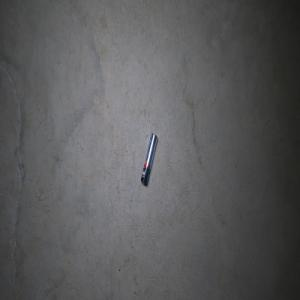Battery: (140, 132, 158, 185)
